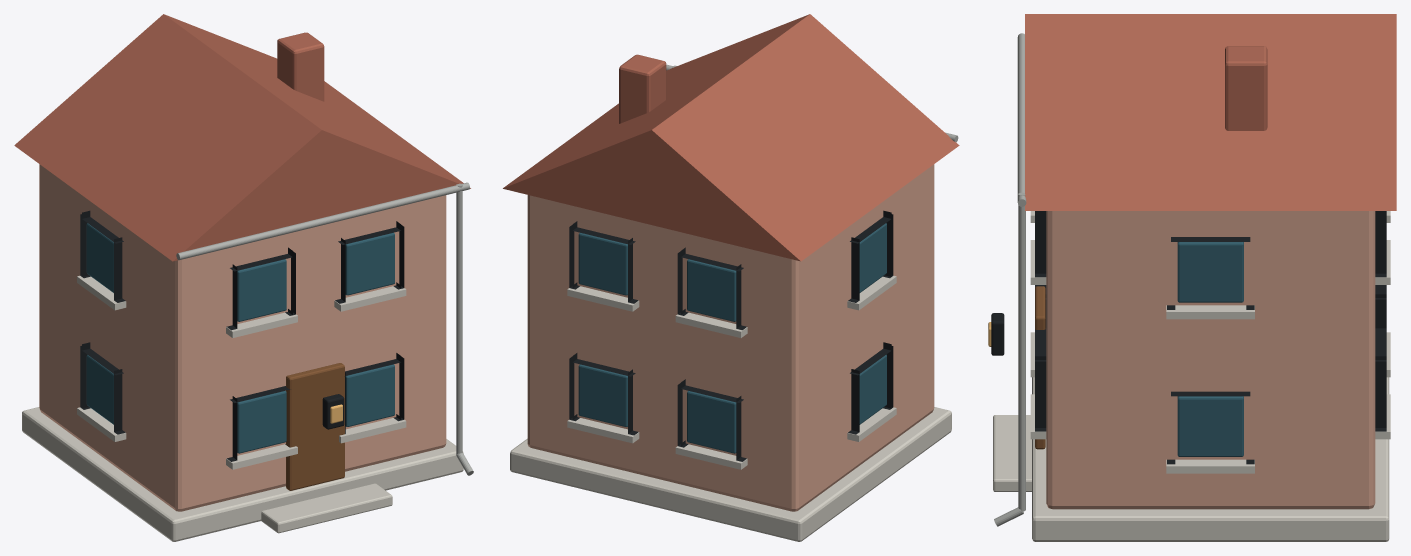
Rendered from RES_LOW_1x1_003.glb.
3 renders of one model, left to right at view 1: azimuth 30°, elevation 25°; view 2: azimuth 150°, elevation 25°; view 3: azimuth 270°, elevation 25°, orthographic. The views are drawn at different scales.
Visible parts, largest first — view 1: RES_LOW_1x1_003_Visual; view 2: RES_LOW_1x1_003_Visual; view 3: RES_LOW_1x1_003_Visual.
Part boxes in pixels (box(x1,y1,x2,y2)): RES_LOW_1x1_003_Visual: box(14, 14, 473, 541); RES_LOW_1x1_003_Visual: box(503, 14, 959, 541); RES_LOW_1x1_003_Visual: box(988, 14, 1396, 541).
Size of what is drawn, in the model's own units: 1.71 by 2.09 by 1.73.
